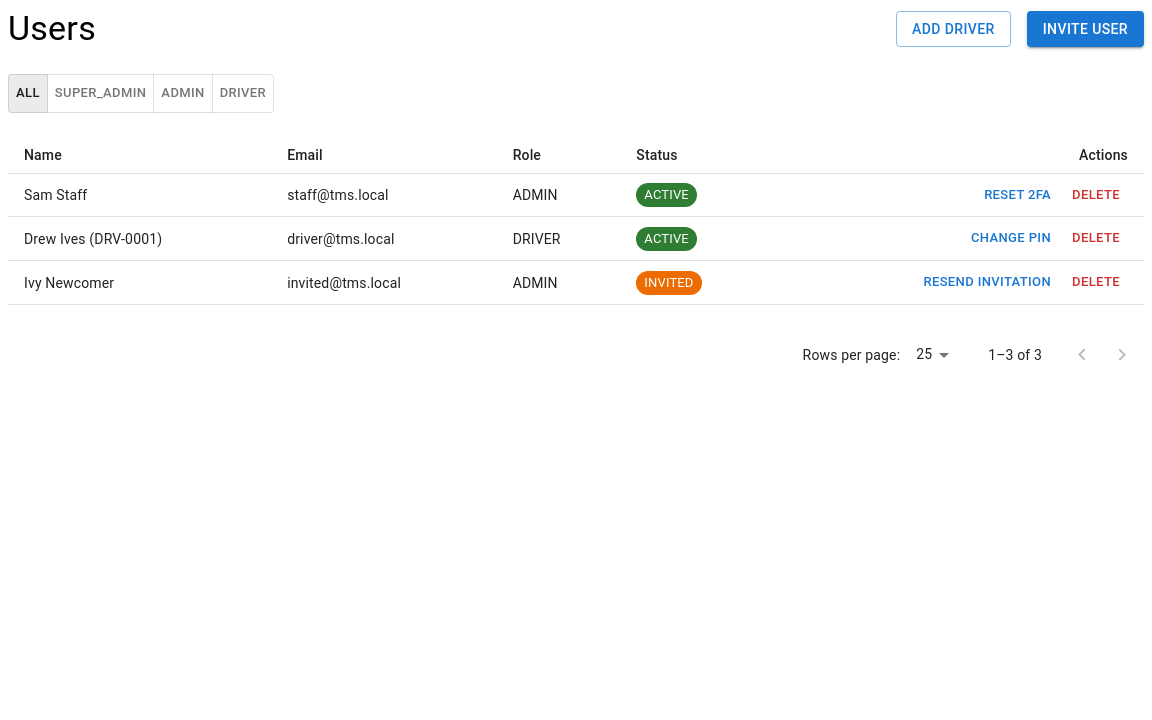
Test: UsersPage › reports a refused delete instead of failing silently
Step 1. Click the button "Delete" in the row of "Sam" → (1096, 195), box x1=1064 y1=180 x2=1128 y2=210
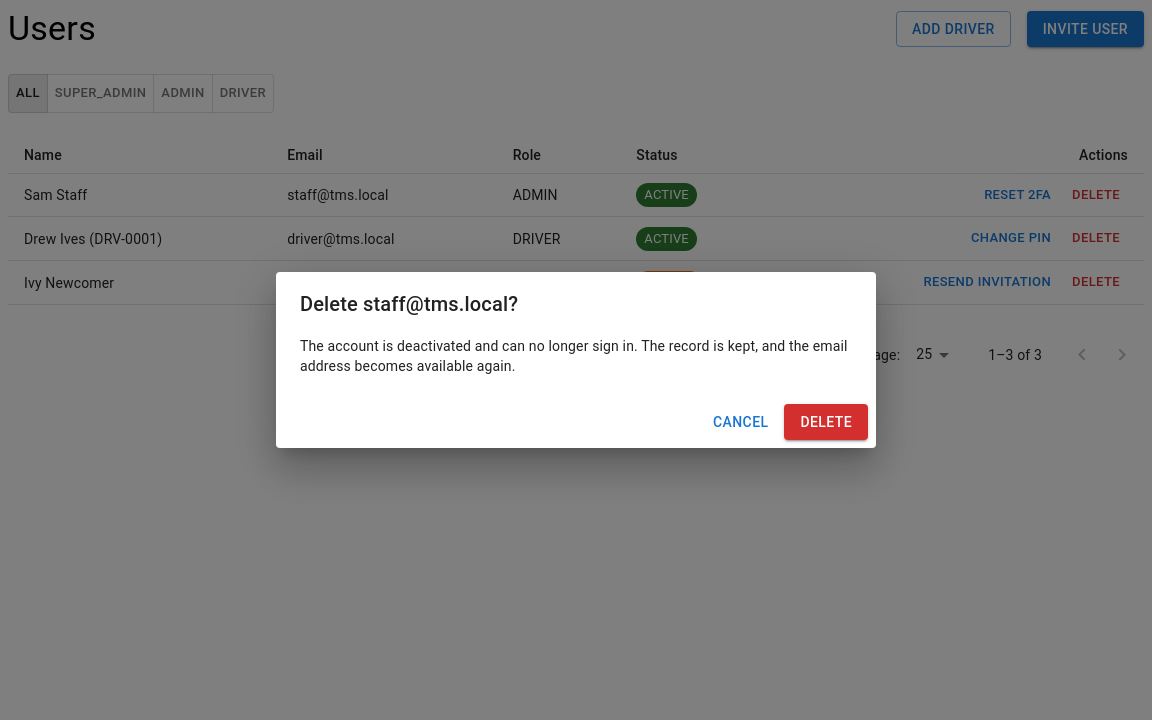
Step 2. Click the button "Delete" → (826, 422), box x1=784 y1=404 x2=868 y2=440
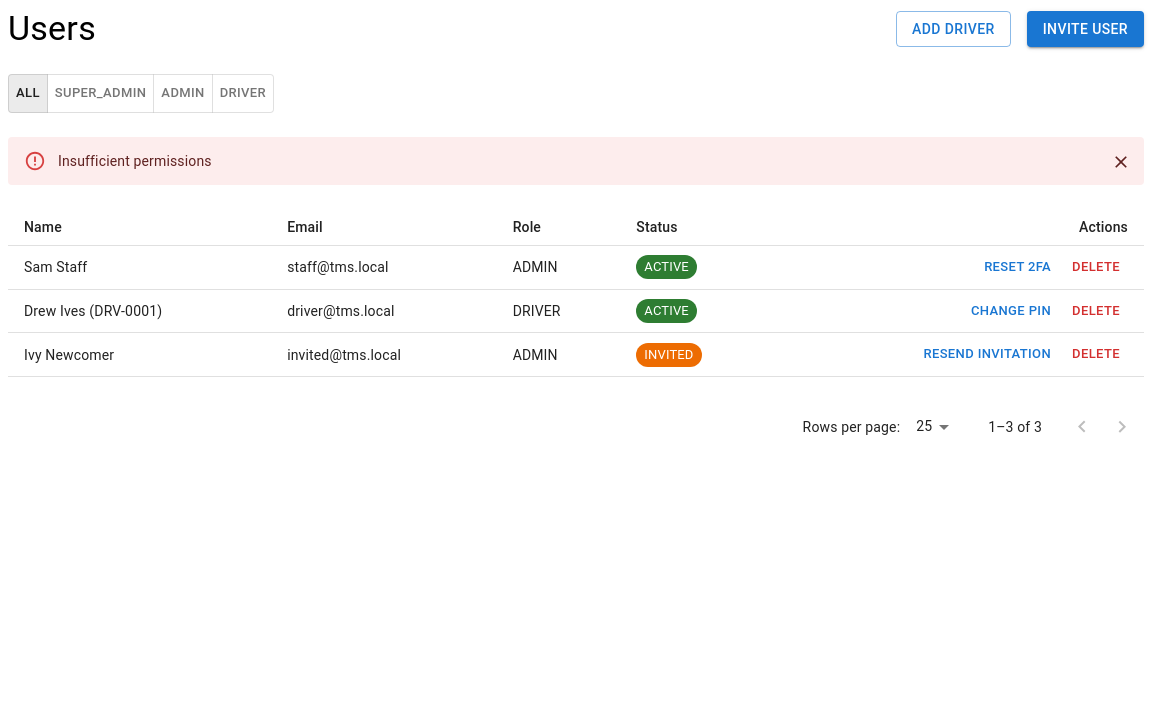
Now the message reads "Insufficient permissions", box x1=58 y1=153 x2=212 y2=169
